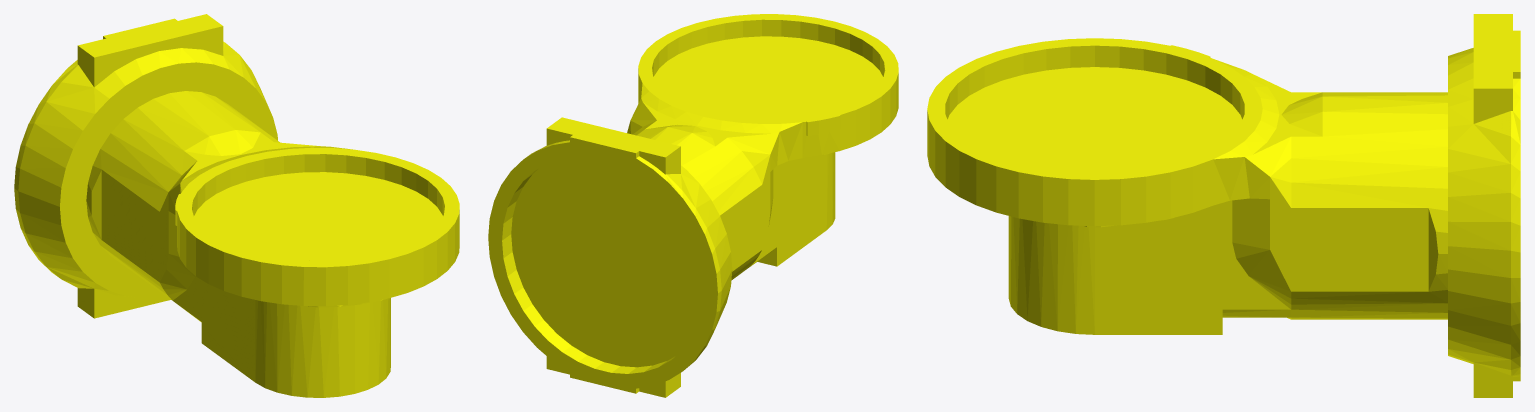
3 views of the same model, side by side, from view 1: azimuth 30°, elevation 25°; view 2: azimuth 150°, elevation 25°; view 3: azimuth 270°, elevation 25° (orthographic). The views are drawn at different scales.
Visible parts, largest first — view 1: node; view 2: node; view 3: node.
Part boxes in pixels (<box>): node: <box>14,14,459,397</box>; node: <box>488,14,898,397</box>; node: <box>927,14,1520,397</box>.
Size of the model in its own units: 174 by 174 by 302.
